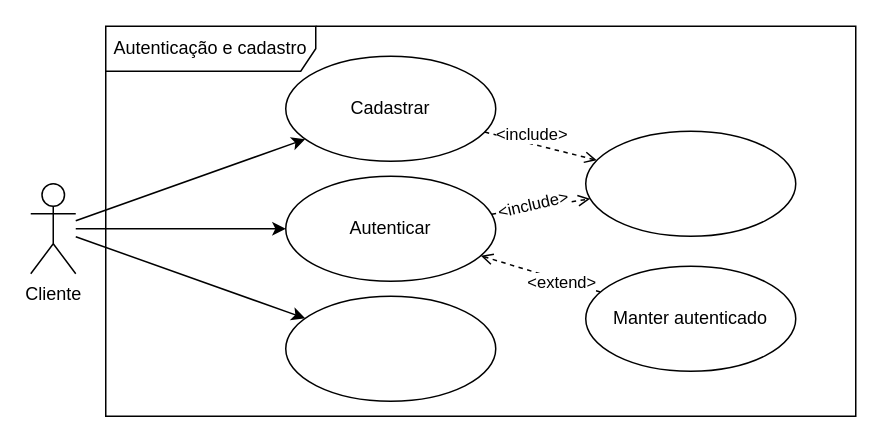
This 882x443 diagram has some shape labels left out. Each missing label, with the centre of its shape:
Desautenticar: the point at 390,348
Validar informações: the point at 690,183
